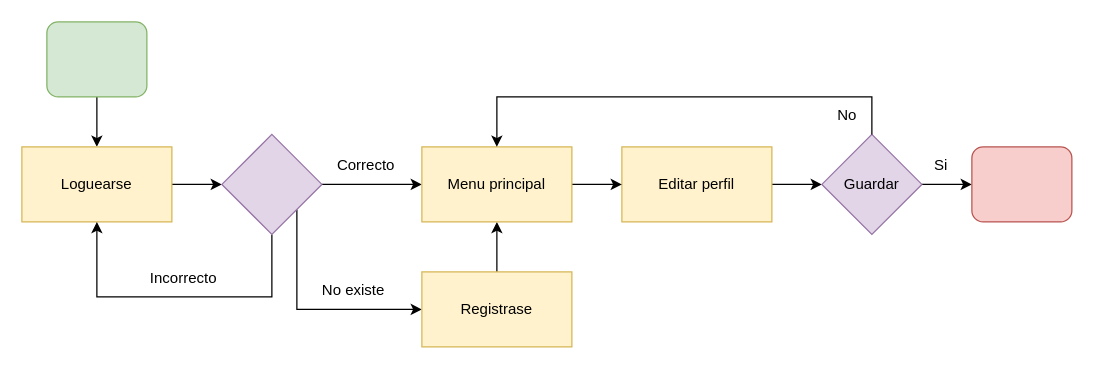
The diagram is 1094 pixels wide and 369 high, and some of its shapes have lost their labels. Each missing label, with the centre of its shape:
FIN: the point at 1021,184
Inicio: the point at 96,59
Verificar: the point at 271,183
